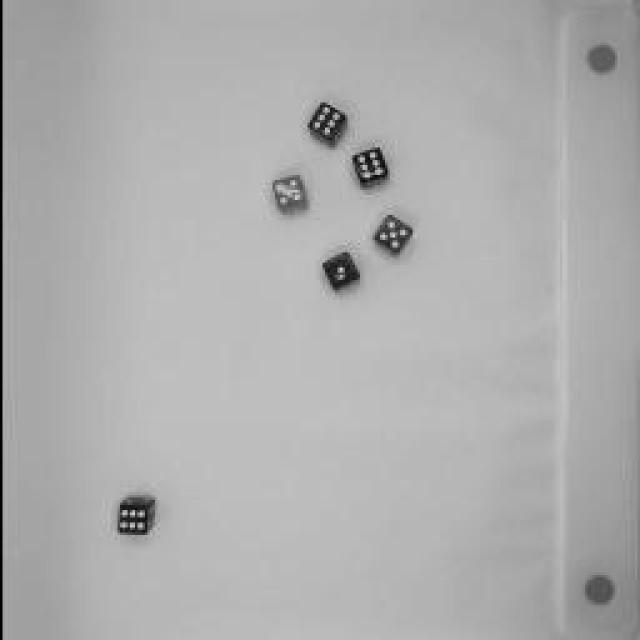dice_1: (315, 250, 365, 295)
dice_5: (362, 210, 418, 265), (260, 169, 310, 221)
dice_6: (295, 98, 355, 152), (112, 490, 158, 540), (342, 146, 392, 192)
